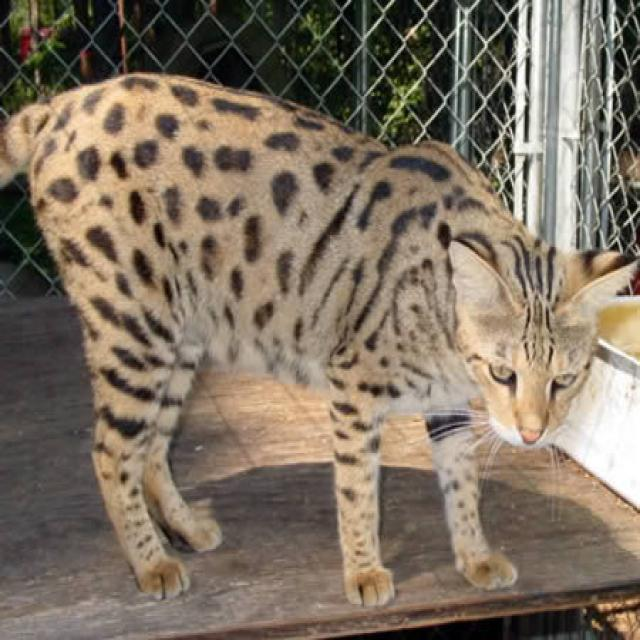Egyptian_Mau: (445, 232, 636, 448)
